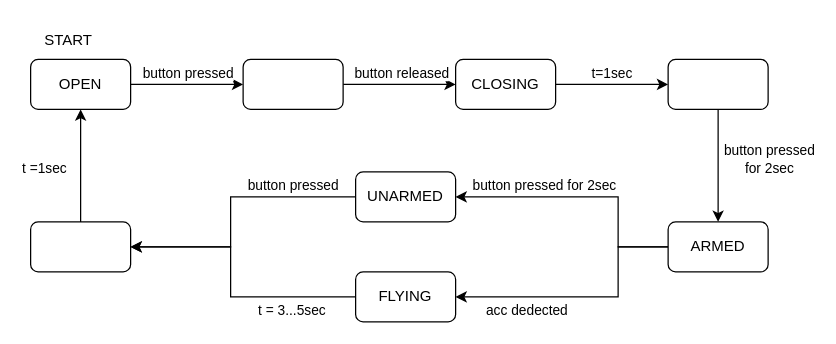
Image size: 836x344. Some labels were removed from this diagram. The shapes that lost their labels are listed below. From the top down, each one's box as (x1, y1, x2, y2) in pixels, then its label:
(242, 58, 343, 109): SHAKING
(667, 58, 768, 109): LOADED
(29, 221, 131, 272): OPENING
